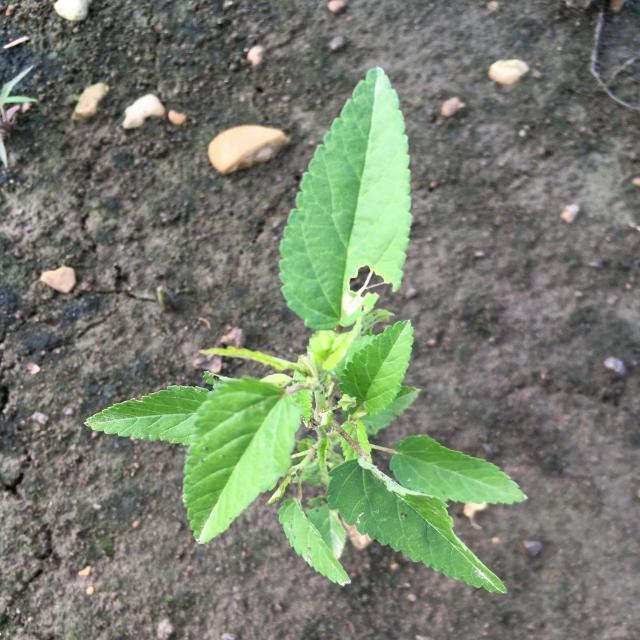PricklySida: (84, 67, 527, 594)
